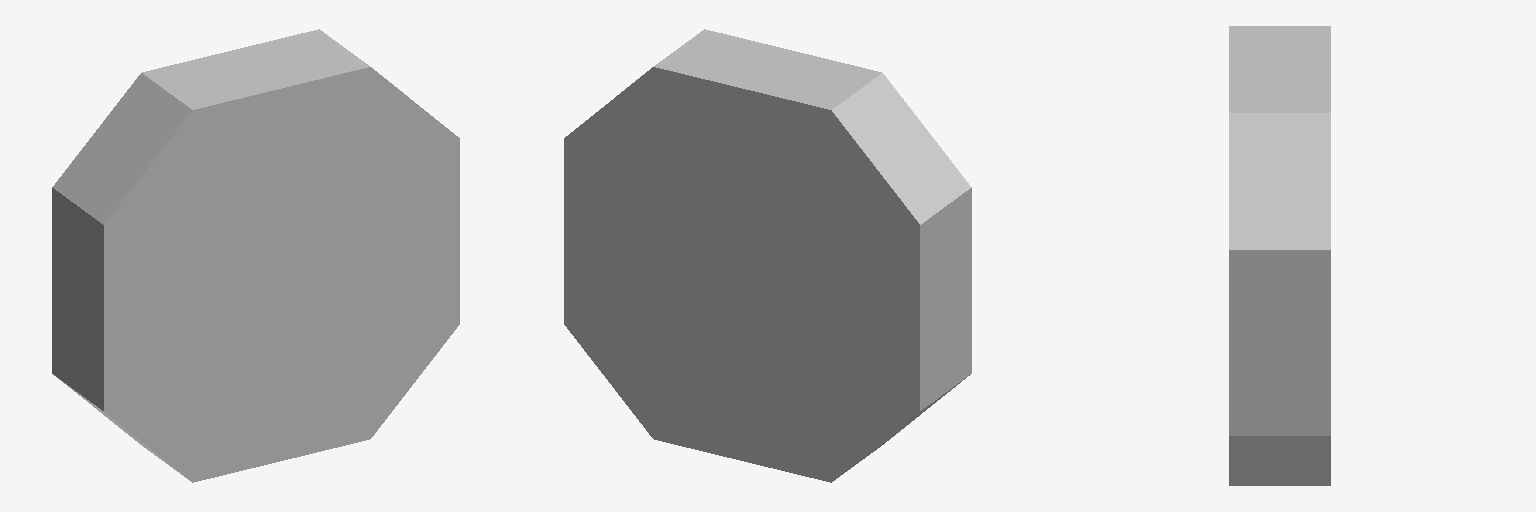
The model's file is white_light.obj.
The picture shows the model from 3 angles: view 1: azimuth 30°, elevation 25°; view 2: azimuth 150°, elevation 25°; view 3: azimuth 270°, elevation 25°; orthographic projection.
Visible parts, largest first — view 1: cube; view 2: cube; view 3: cube.
Part boxes in pixels (x1,y1,x2,y2): cube: (52, 29, 459, 482); cube: (564, 29, 971, 482); cube: (1229, 26, 1330, 485).
Size of the model in its own units: 0.25 by 0.25 by 0.0625.